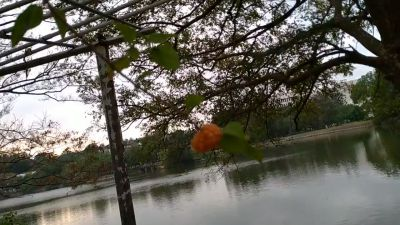eggs: (190, 122, 222, 155)
